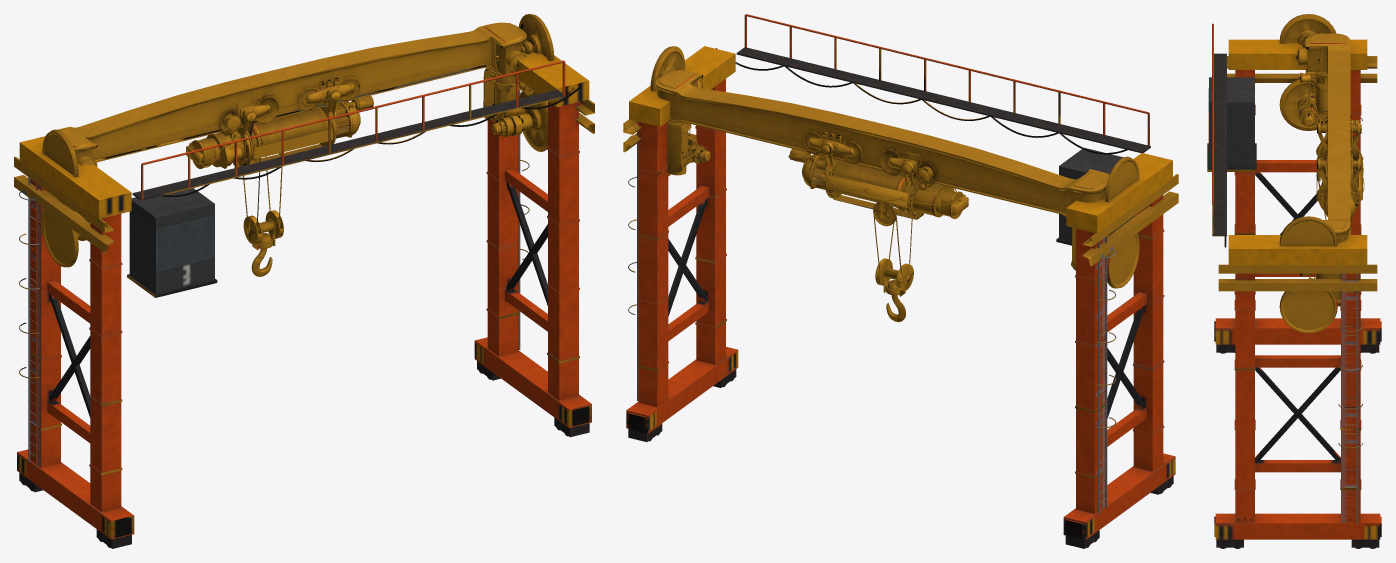
File: gantry_crane.glb
3 renders of one model, left to right at view 1: azimuth 30°, elevation 25°; view 2: azimuth 150°, elevation 25°; view 3: azimuth 270°, elevation 25°, orthographic. The views are drawn at different scales.
Parts seen in each view (by area): view 1: gantry_crane; view 2: gantry_crane; view 3: gantry_crane.
Boxes of the visible parts, left/top/right/bottom form: gantry_crane: left=14, top=14, right=594, bottom=548; gantry_crane: left=623, top=14, right=1178, bottom=548; gantry_crane: left=1207, top=14, right=1381, bottom=548.
Size of the model in its own units: 15.51 by 11.16 by 5.29.
Materials: 4 (4 with a texture image).
